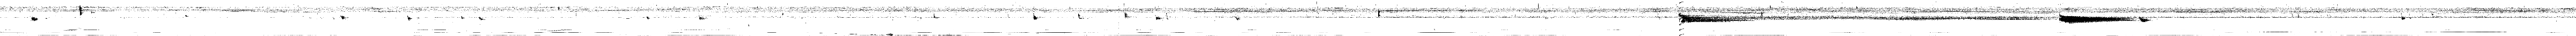meteor: (1677, 13, 1753, 23), (2058, 15, 2134, 23), (2139, 16, 2152, 23), (698, 15, 708, 20), (31, 16, 39, 21), (407, 15, 412, 21), (478, 16, 486, 20), (1155, 16, 1163, 20), (2400, 15, 2405, 20), (1033, 13, 1037, 20)
